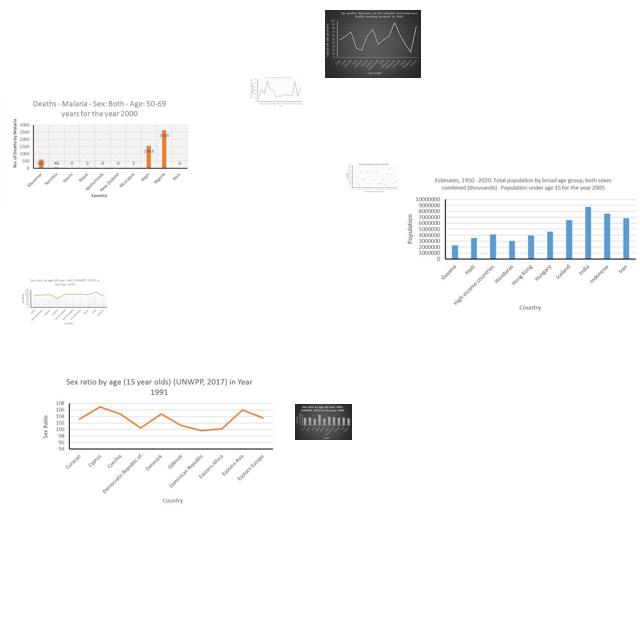Graph: (405, 173, 640, 313), (41, 372, 276, 506), (6, 95, 191, 206), (325, 10, 421, 78), (20, 277, 108, 326), (295, 404, 352, 440), (250, 76, 303, 107), (346, 163, 398, 193)
